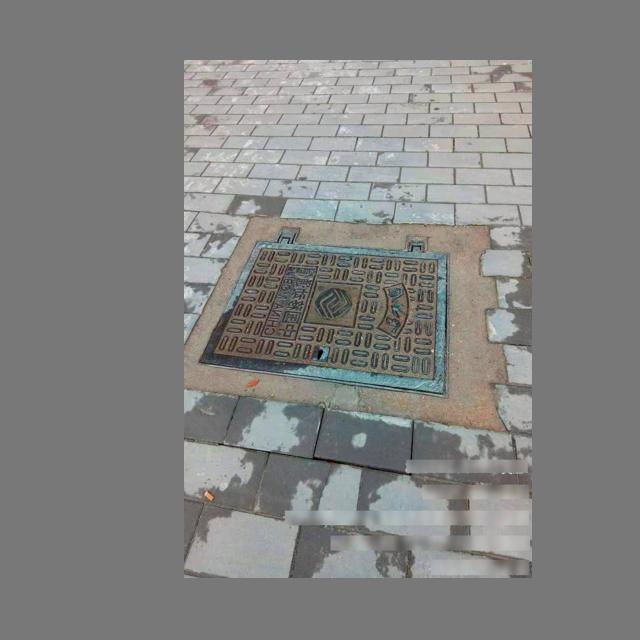good: (193, 232, 459, 392)
